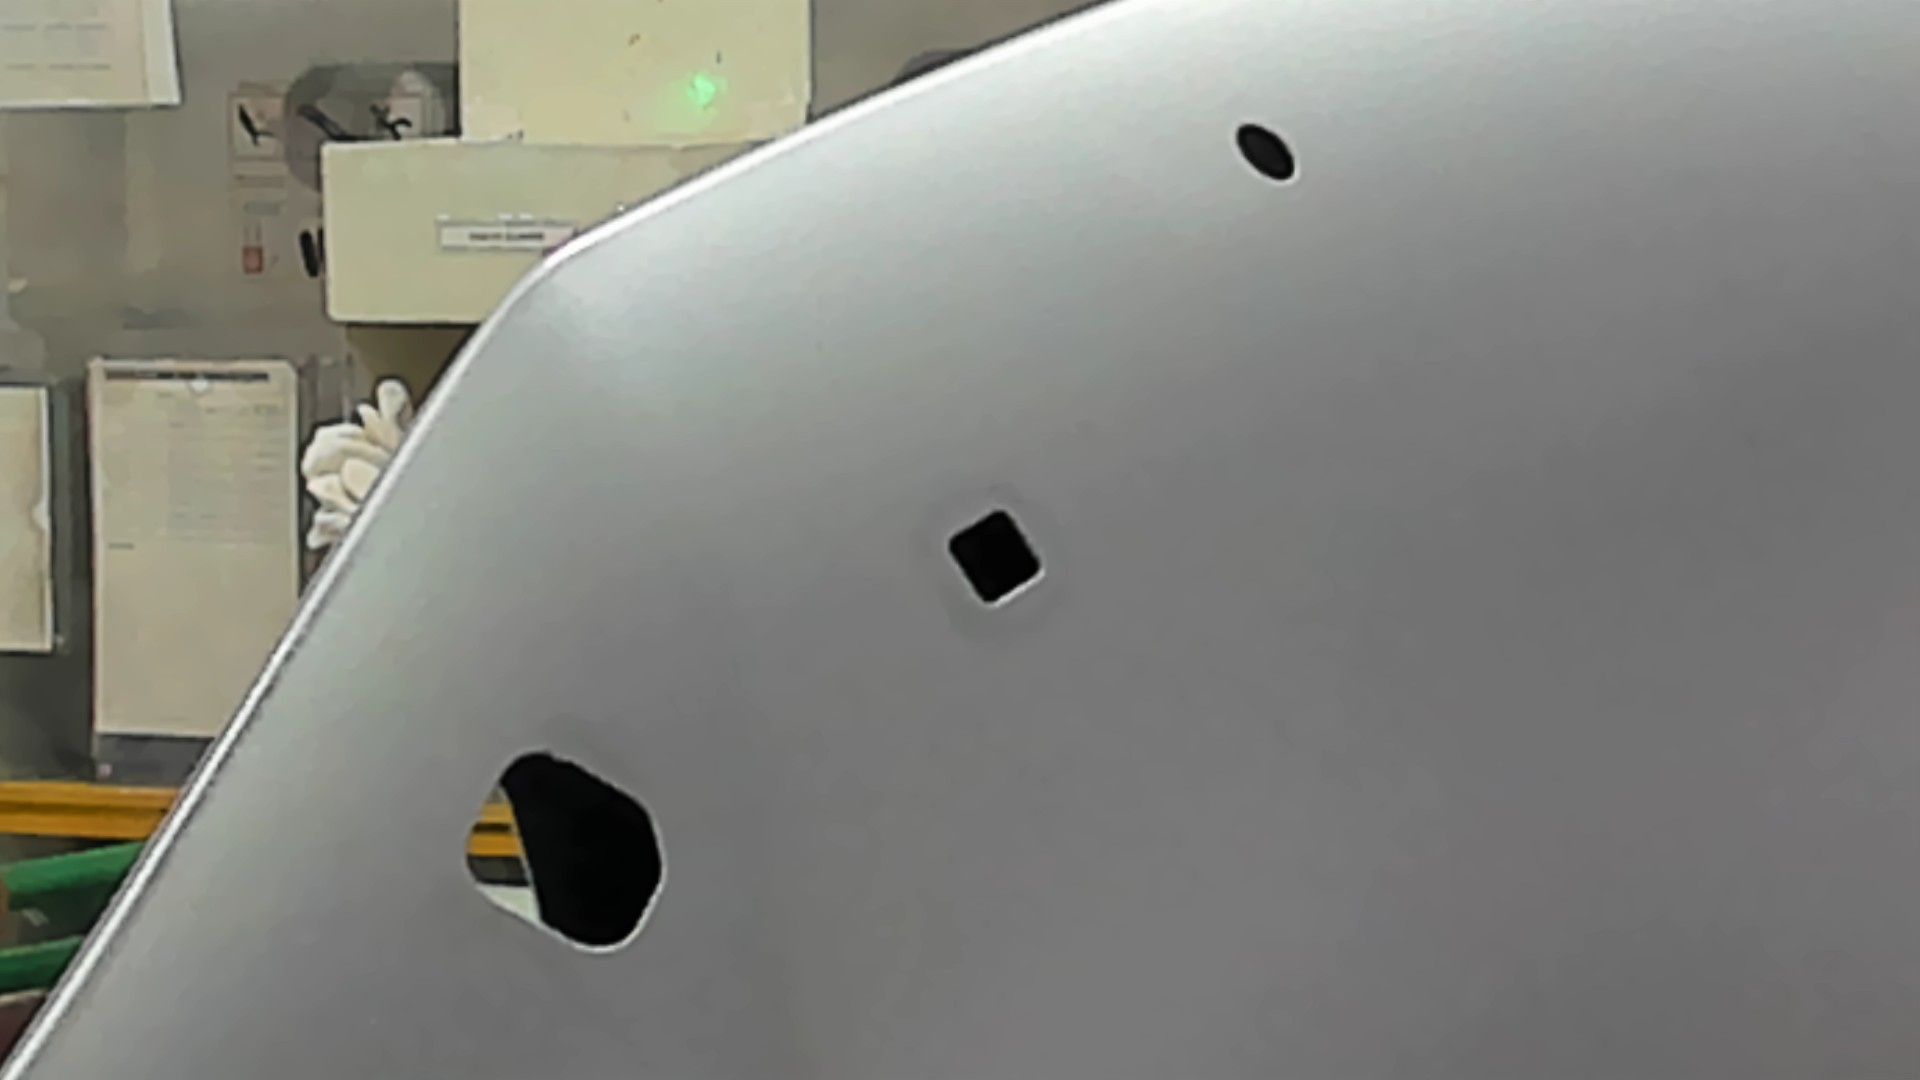chico: (1224, 109, 1307, 194)
grande: (448, 733, 694, 973)
mediano: (932, 491, 1059, 613)
